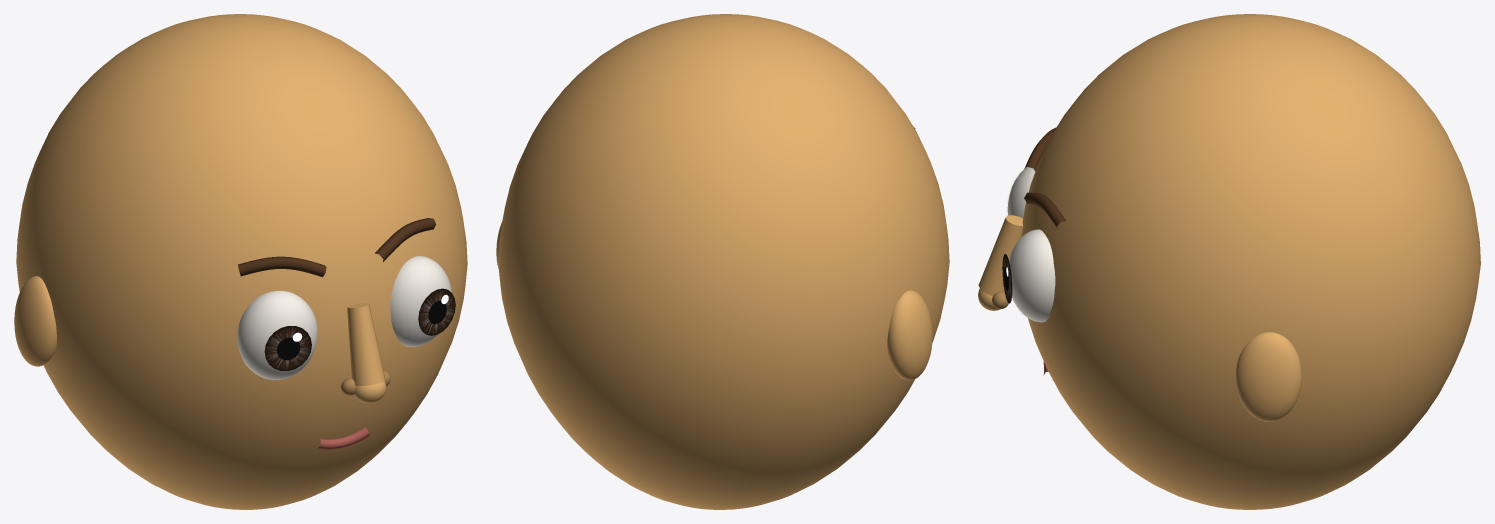
The model's file is 10-petite.glb.
The picture shows the model from 3 angles, left to right: view 1: azimuth 30°, elevation 25°; view 2: azimuth 150°, elevation 25°; view 3: azimuth 270°, elevation 25°; orthographic projection.
Size of the model in its own units: 0.3087 by 0.321 by 0.3166.
9 materials, 1 textured.
